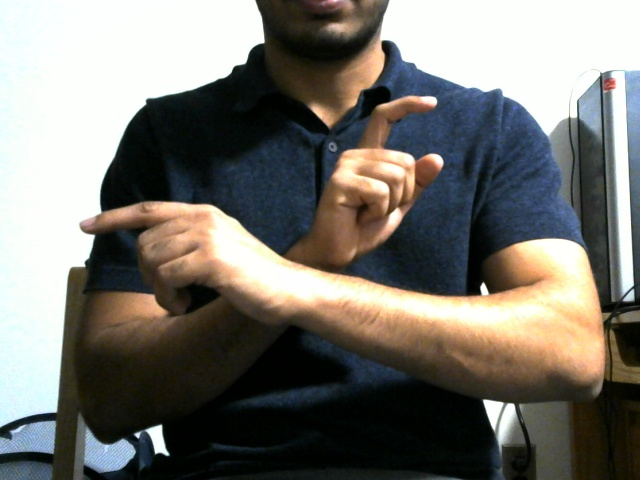call: (33, 74, 481, 326)
